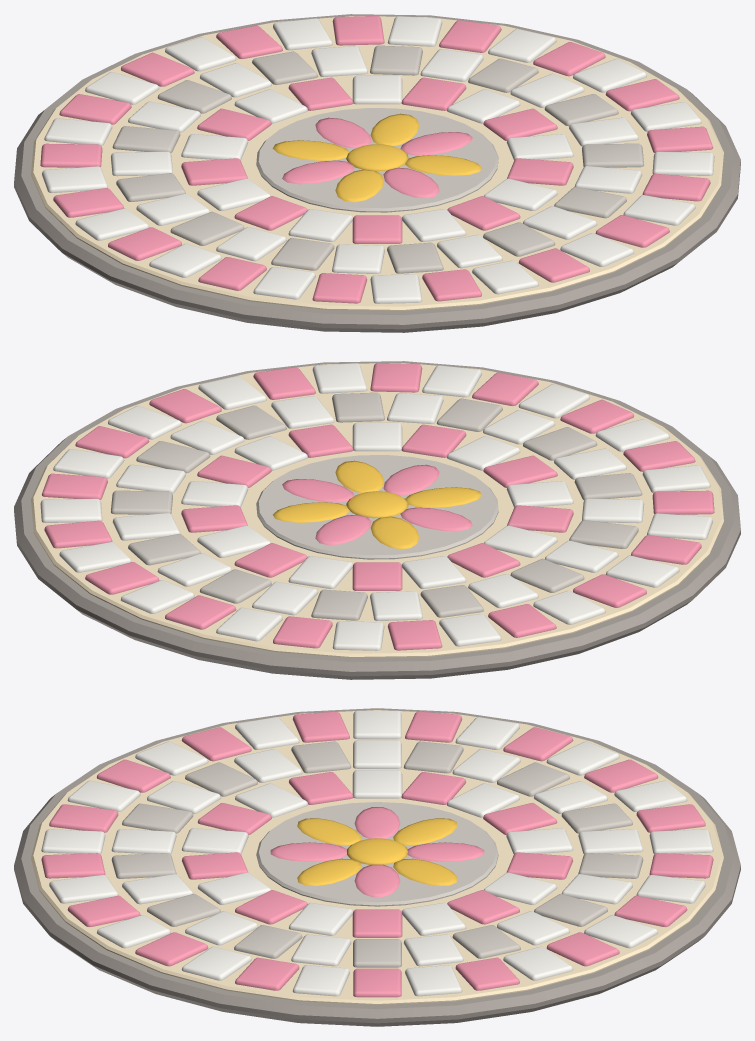
The model's file is plaza_floor.fbx.
3 views of the same model, one above another, from view 1: azimuth 30°, elevation 25°; view 2: azimuth 150°, elevation 25°; view 3: azimuth 270°, elevation 25° (orthographic).
Parts seen in each view (by area): view 1: plaza_floor_White, plaza_floor_Pink, plaza_floor_Cream, plaza_floor_Stone, plaza_floor_StoneDark, plaza_floor_Yellow; view 2: plaza_floor_White, plaza_floor_Pink, plaza_floor_Cream, plaza_floor_Stone, plaza_floor_StoneDark, plaza_floor_Yellow; view 3: plaza_floor_White, plaza_floor_Pink, plaza_floor_Cream, plaza_floor_Stone, plaza_floor_StoneDark, plaza_floor_Yellow.
Boxes of the visible parts, box(x1,y1,x2,y2) form: plaza_floor_White: box(42, 16, 714, 303); plaza_floor_Pink: box(40, 16, 713, 303); plaza_floor_Cream: box(31, 16, 723, 310); plaza_floor_Stone: box(112, 45, 643, 273); plaza_floor_StoneDark: box(14, 14, 740, 332); plaza_floor_Yellow: box(272, 113, 481, 202); plaza_floor_White: box(40, 363, 712, 650); plaza_floor_Pink: box(41, 363, 714, 650); plaza_floor_Cream: box(31, 363, 723, 657); plaza_floor_Stone: box(111, 392, 642, 620); plaza_floor_StoneDark: box(14, 361, 740, 679); plaza_floor_Yellow: box(273, 460, 482, 549); plaza_floor_White: box(41, 710, 713, 996); plaza_floor_Pink: box(41, 711, 713, 997); plaza_floor_Cream: box(31, 710, 723, 1004); plaza_floor_Stone: box(111, 741, 643, 967); plaza_floor_StoneDark: box(14, 708, 740, 1026); plaza_floor_Yellow: box(297, 818, 457, 885).
Size of the model in its own units: 60 by 2.67 by 60.
